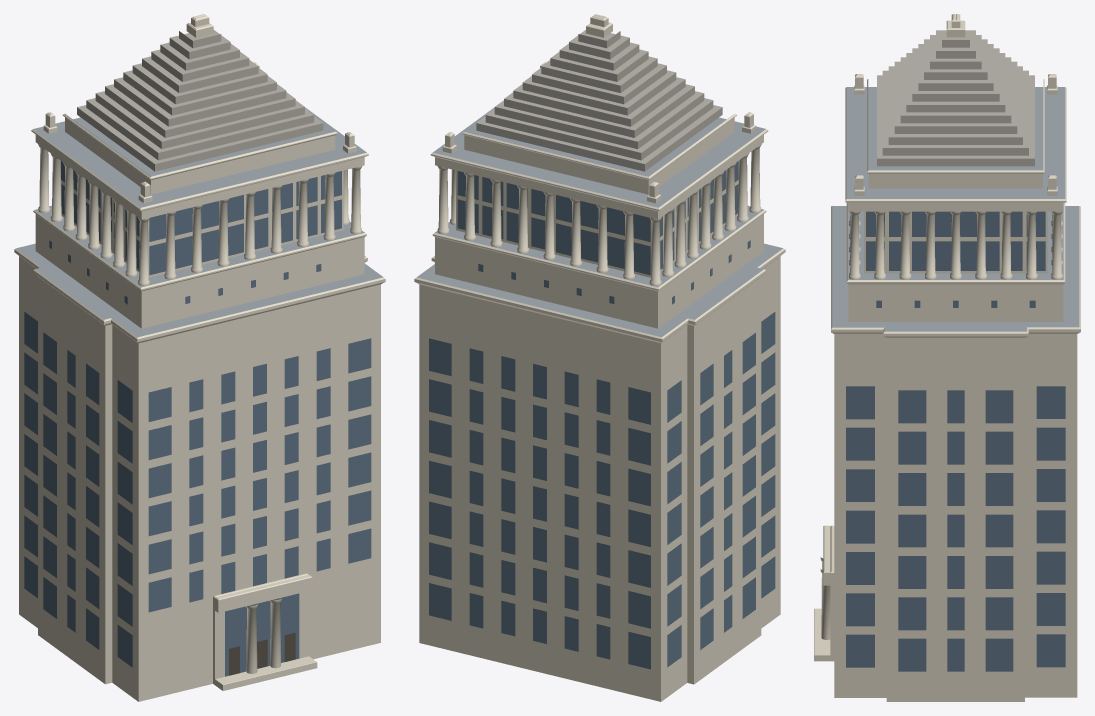
The model's file is stl-civil-courts.glb.
3 views of the same model, side by side, from view 1: azimuth 30°, elevation 25°; view 2: azimuth 150°, elevation 25°; view 3: azimuth 270°, elevation 25° (orthographic).
Parts seen in each view (by area): view 1: Clyde S. Cahill Courts Building (Civil Courts Building); view 2: Clyde S. Cahill Courts Building (Civil Courts Building); view 3: Clyde S. Cahill Courts Building (Civil Courts Building).
Part boxes in pixels (x1,y1,x2,y2): Clyde S. Cahill Courts Building (Civil Courts Building): (14, 14, 385, 701); Clyde S. Cahill Courts Building (Civil Courts Building): (414, 14, 785, 701); Clyde S. Cahill Courts Building (Civil Courts Building): (814, 14, 1080, 701).
Size of the model in its own units: 53.1 by 118 by 45.9.
